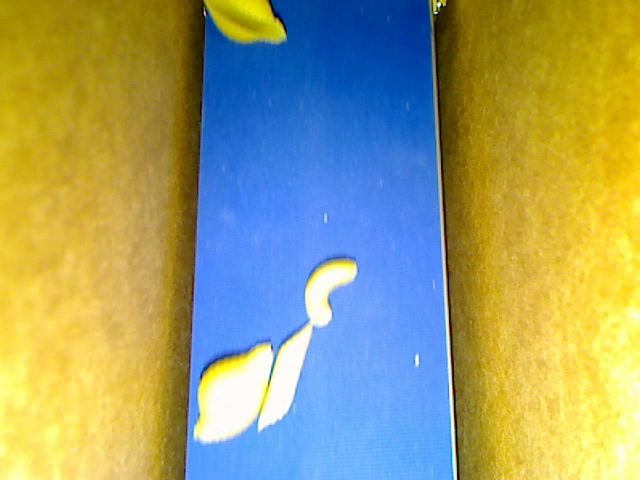elbow: (305, 255, 359, 329)
penne: (257, 321, 313, 431)
shell: (193, 342, 275, 445), (201, 1, 287, 48)
